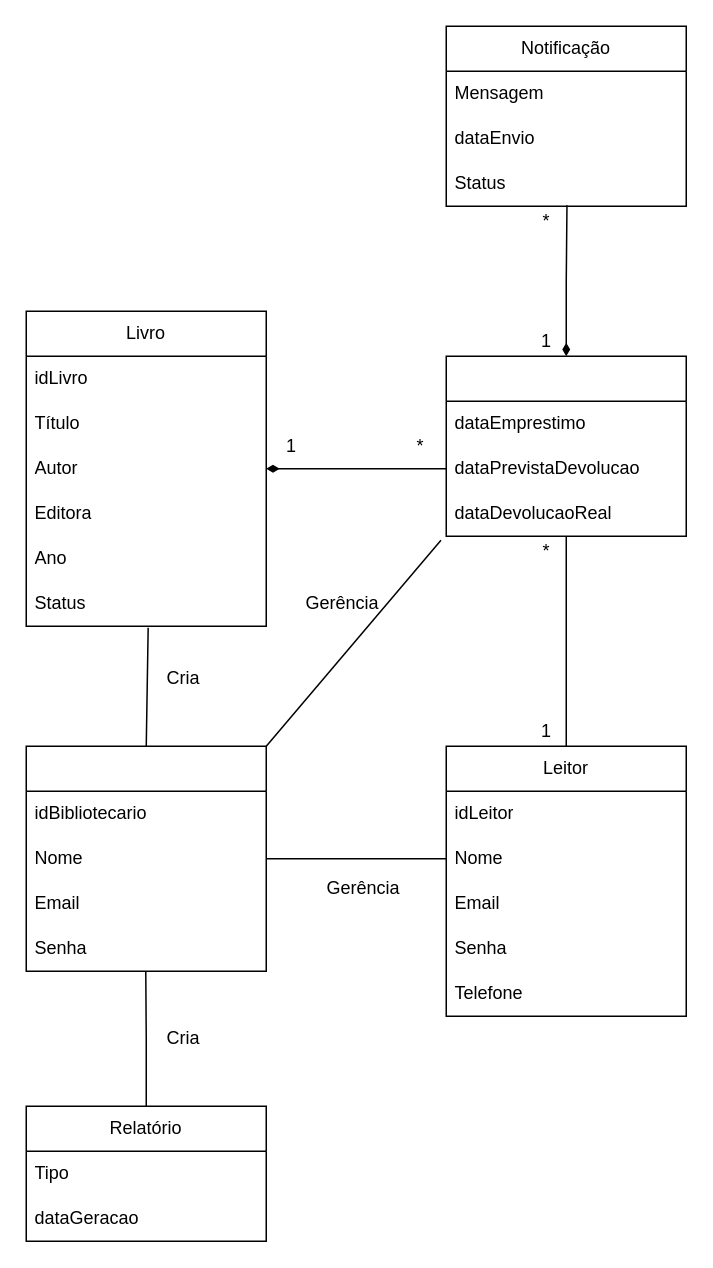
Image size: 713x1268. Some labels were removed from this diagram. Here are the shapes that lost their labels. From the top down, the box of each, then its label:
(445, 355, 686, 536): Empréstimo
(25, 745, 266, 971): Bibliotecário
